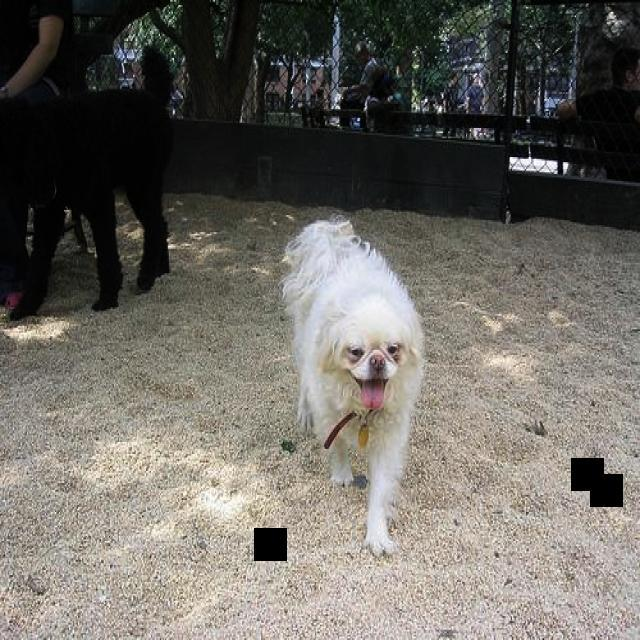adult_dog: (278, 212, 428, 558), (1, 41, 181, 323)
